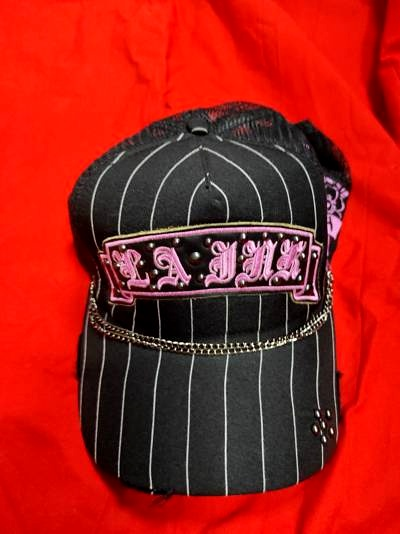Hat: (39, 79, 355, 501)
